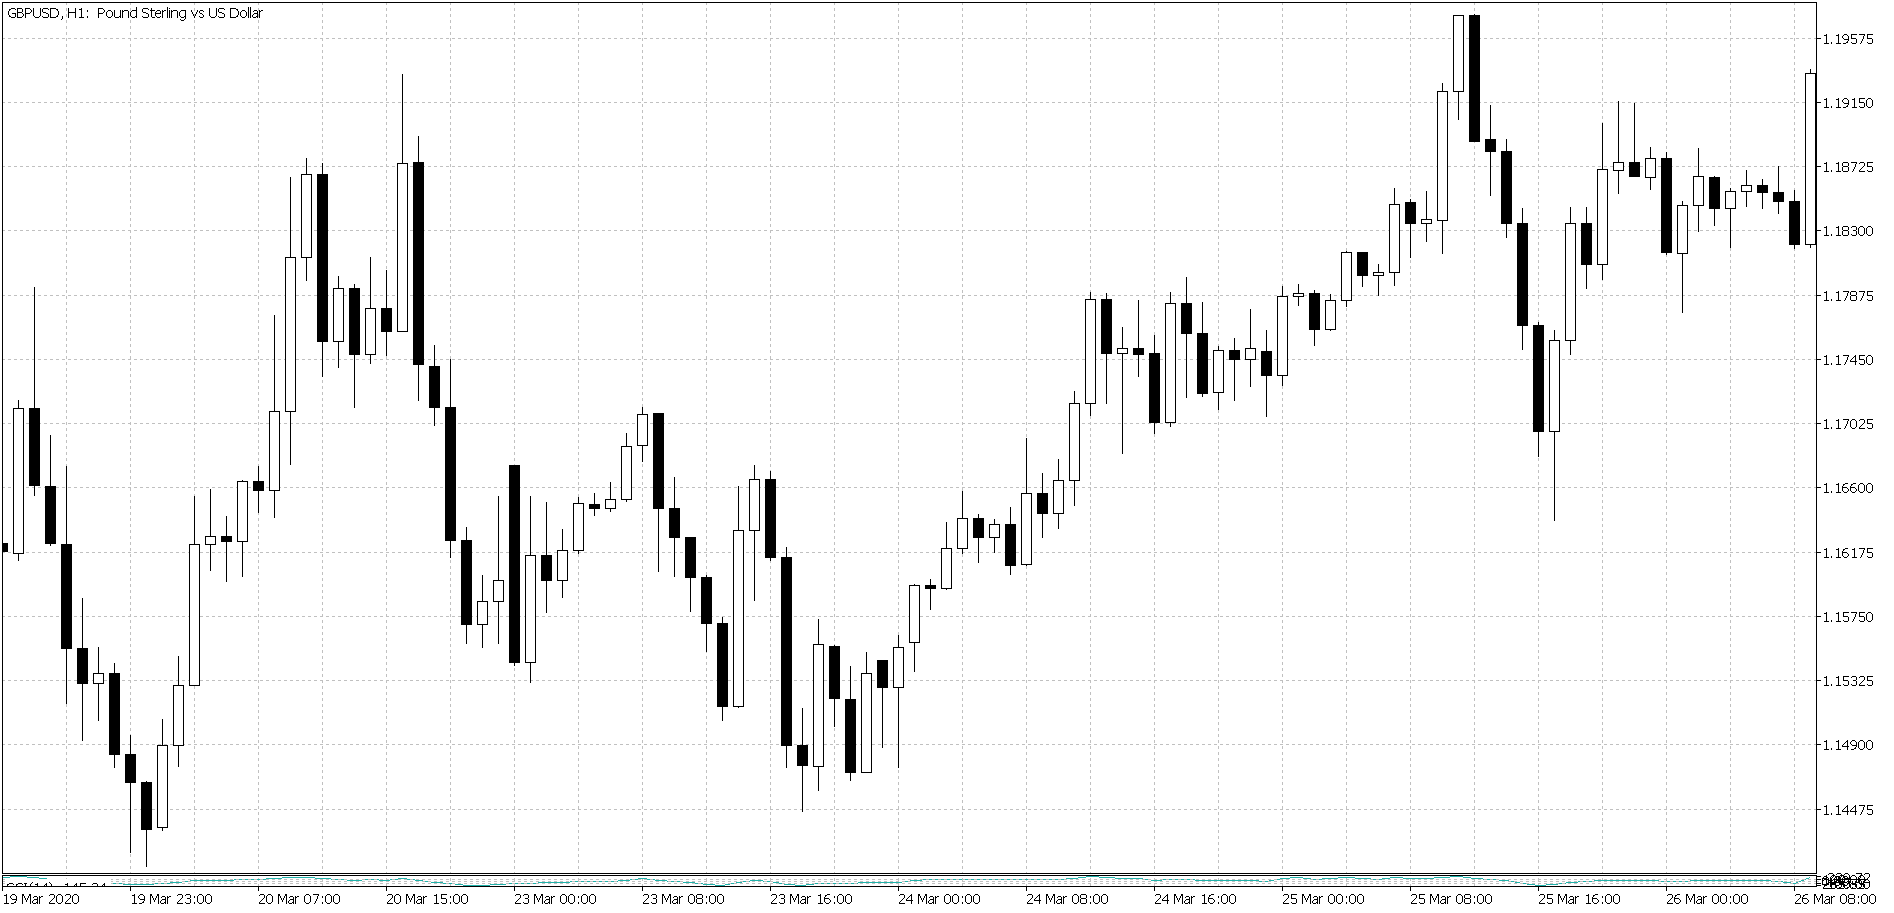3blackcrows: (27, 304, 75, 687)
3whitesoldiers: (153, 531, 201, 841)
bearishEngulfing: (1449, 7, 1483, 155), (634, 395, 667, 527), (746, 452, 779, 566)
